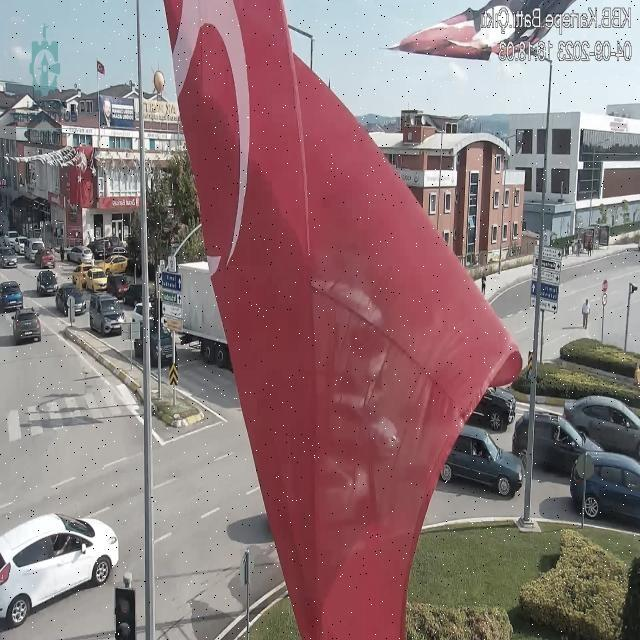Car: (0, 499, 123, 604), (274, 445, 398, 531), (299, 397, 407, 458), (512, 411, 608, 478), (441, 426, 525, 496), (569, 449, 640, 529), (562, 395, 640, 462), (466, 386, 516, 430), (134, 321, 176, 365), (88, 294, 124, 334), (11, 307, 42, 345), (55, 284, 87, 314), (73, 264, 107, 291), (93, 254, 129, 276), (131, 302, 155, 334), (0, 281, 23, 311), (105, 274, 130, 299), (36, 270, 58, 296), (23, 238, 45, 262), (67, 246, 94, 264), (34, 248, 56, 269), (0, 248, 18, 268), (13, 236, 30, 255), (4, 231, 20, 247)
Truck: (159, 255, 407, 388)
